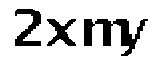2: (9, 5, 44, 51)
m: (82, 17, 129, 47)
x: (46, 17, 78, 47)
y: (122, 16, 149, 60)
